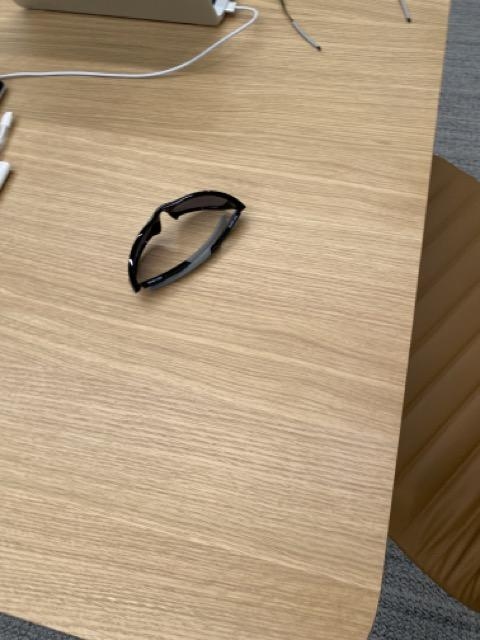Sunglasses: (127, 189, 248, 294)
